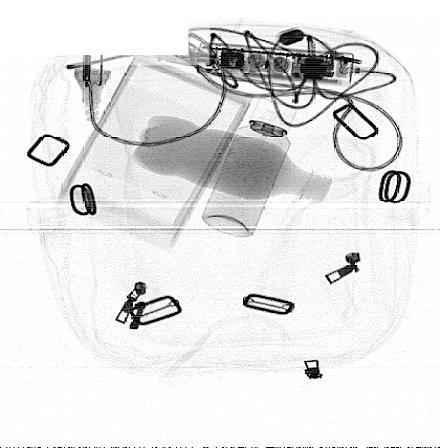Sprayer: (202, 97, 297, 237)
